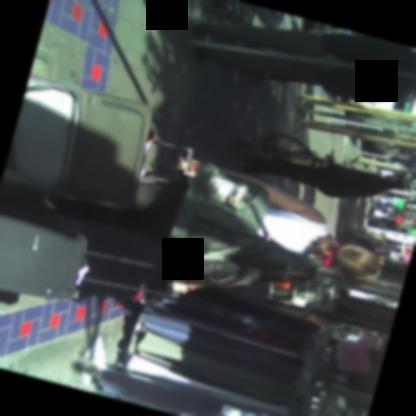backpack: (161, 159, 320, 270)
handbag: (172, 252, 318, 289), (192, 233, 324, 267)
suitcase: (0, 71, 191, 209), (0, 213, 89, 301)
